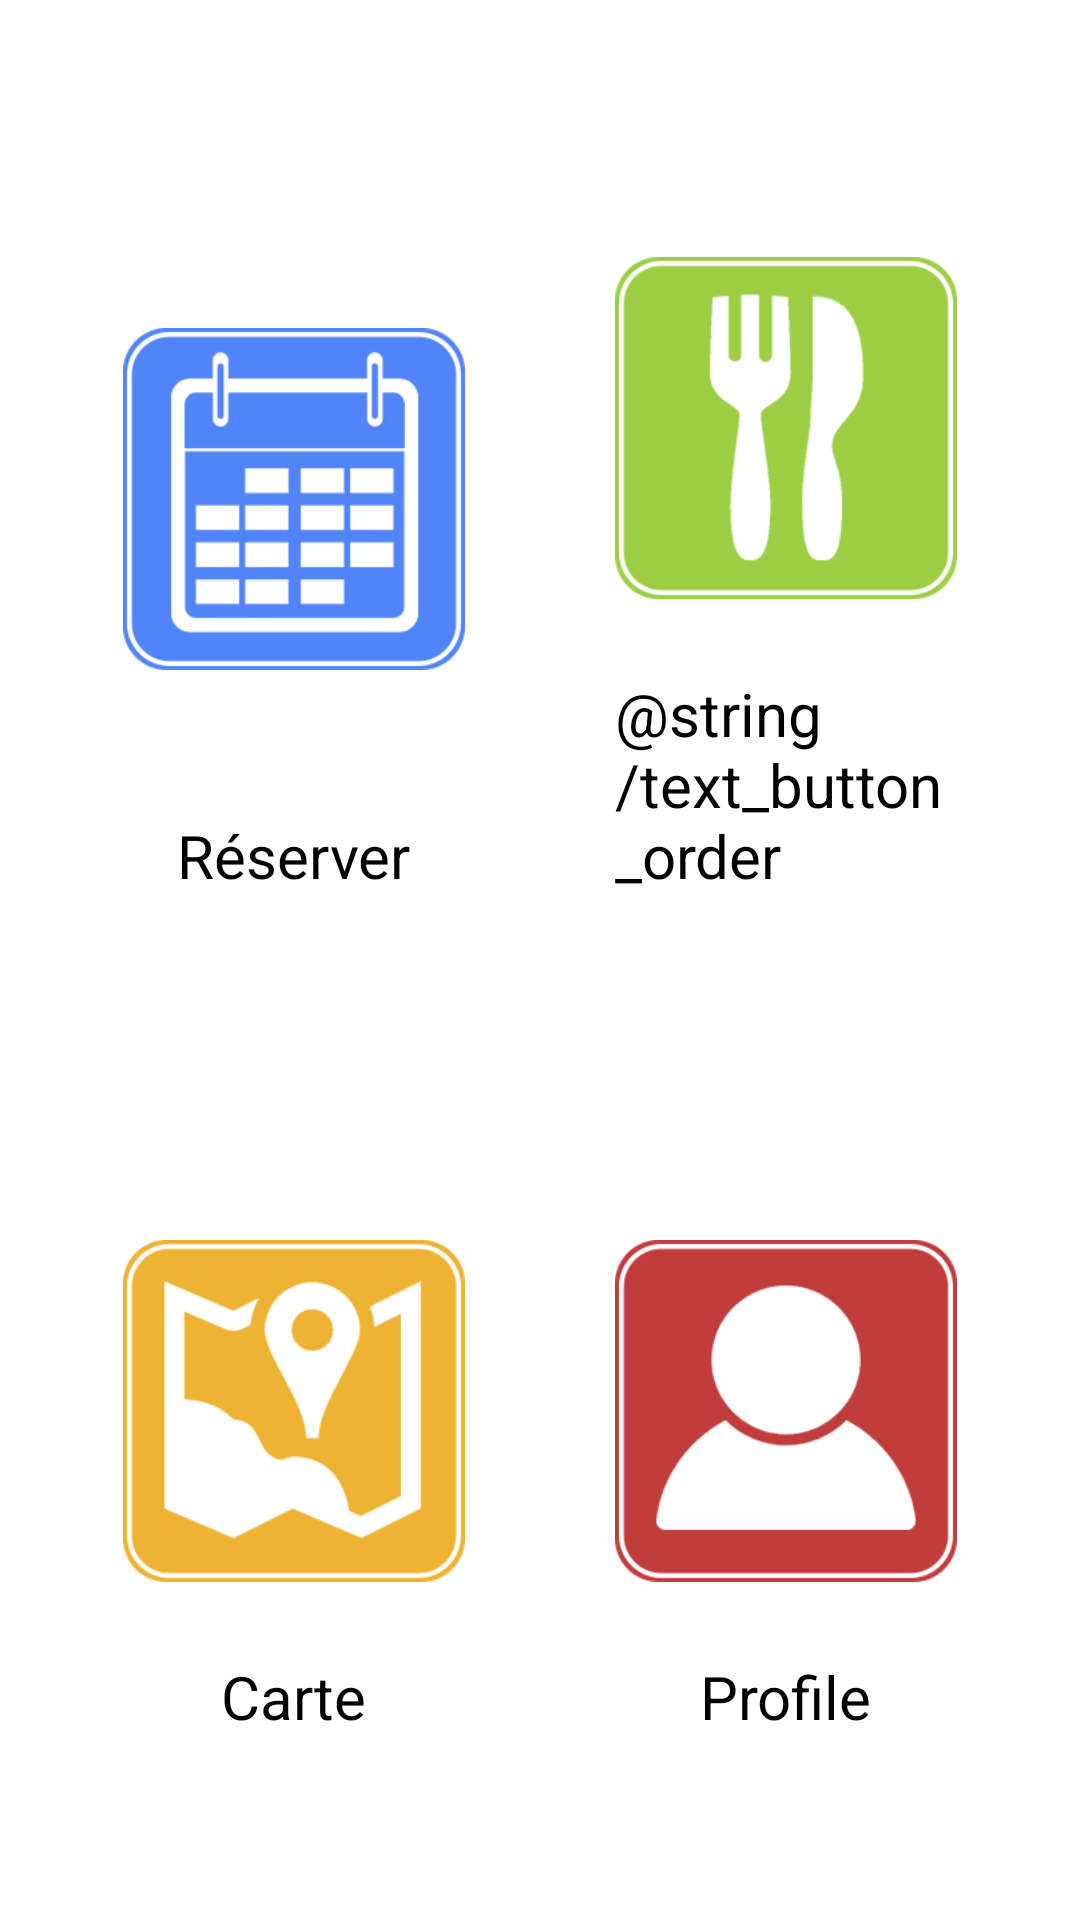

Icon click points for this 1080w x 1920h phone screenshot, format [x,y]:
Icon calling the Book activity: [294,499]
